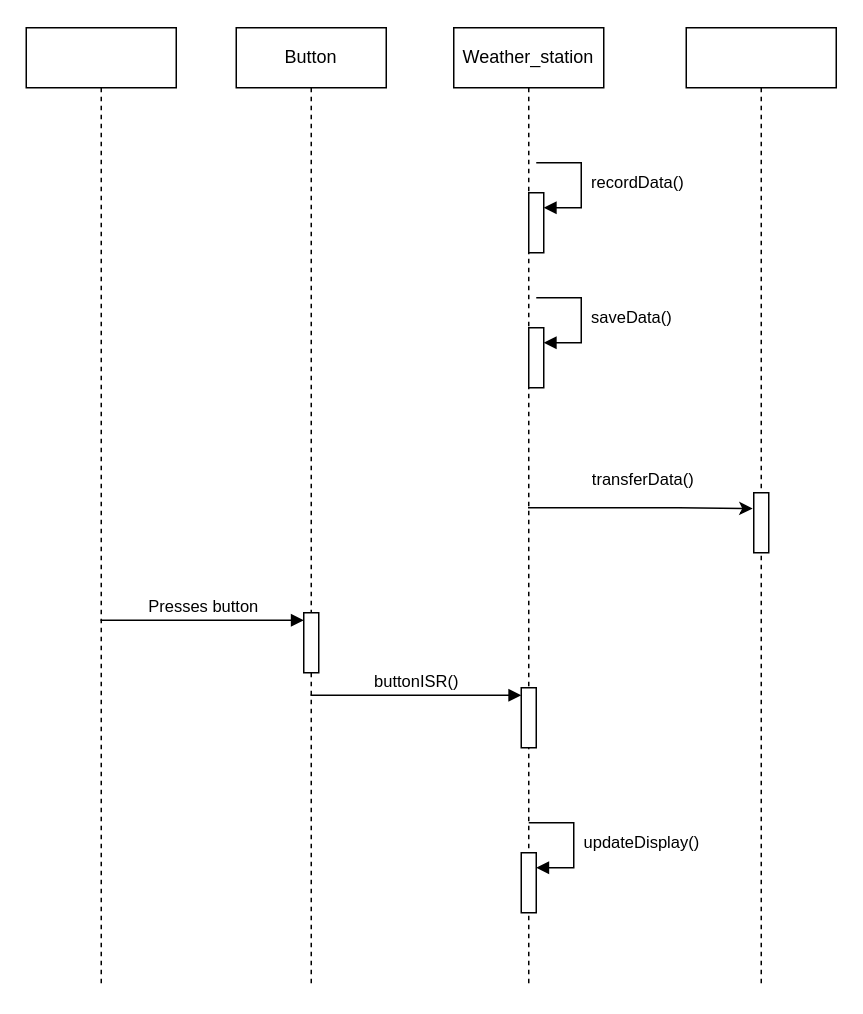
Some shapes in this 863 by 1014 pixel diagram are drawn without their labels. The shapes that lost their labels are listed below. From the top down, each one's box as (x1, y1, x2, y2) in pixels, then its label:
(25, 26, 176, 988): User
(685, 26, 836, 988): Weather Information Service
